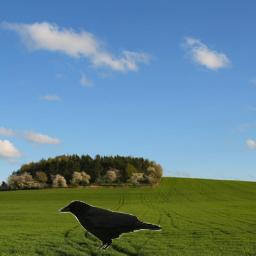Crow: (56, 198, 162, 251)
